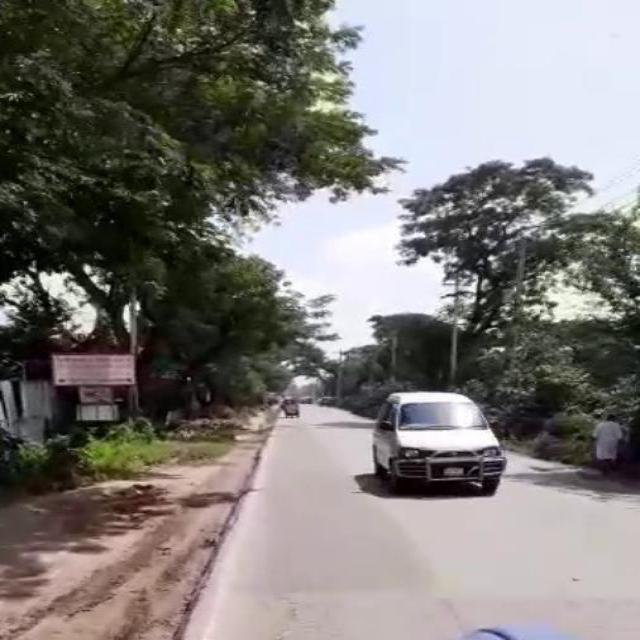van: (367, 389, 497, 486)
